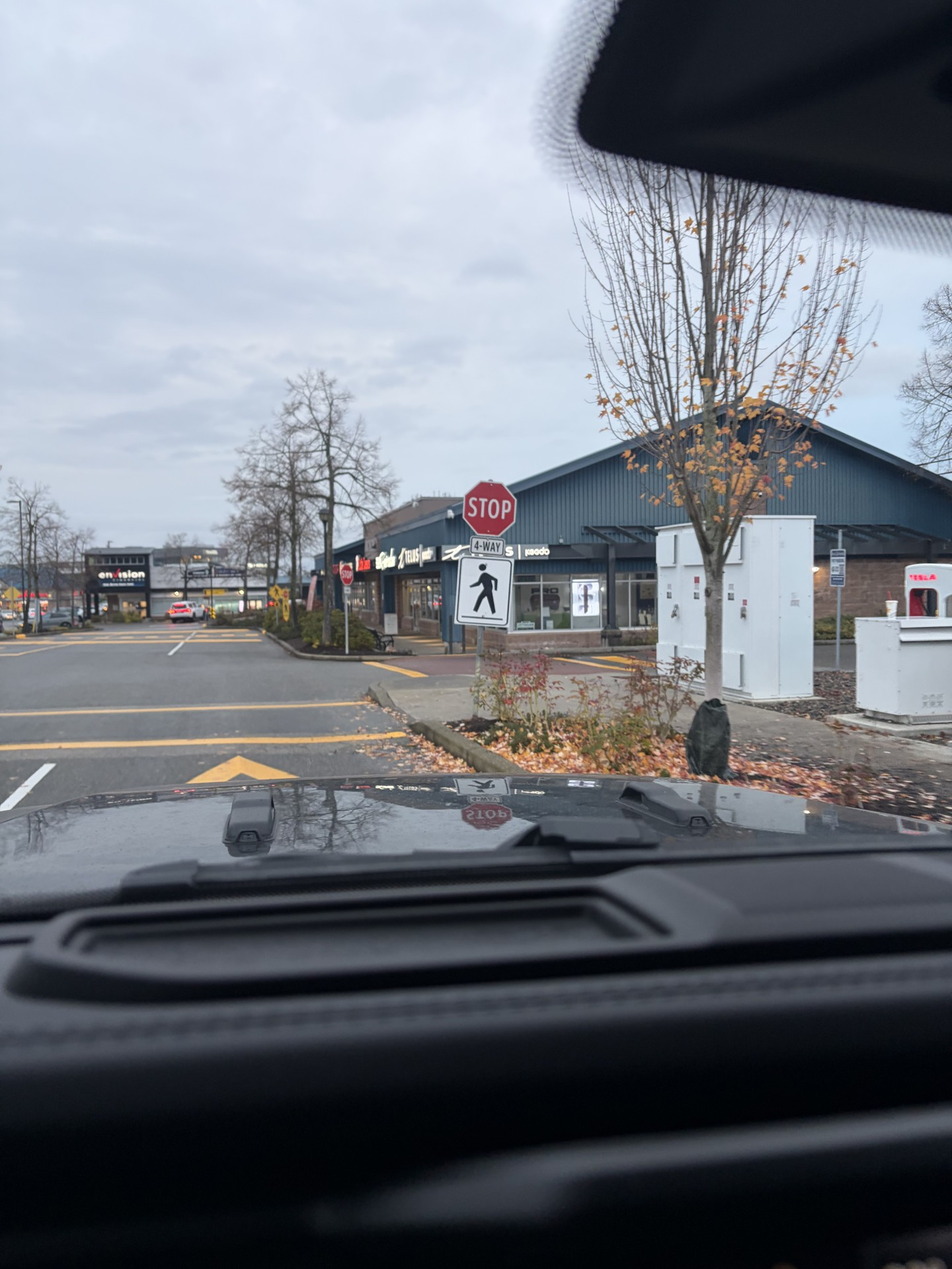pedestrian_crossing: (451, 551, 527, 645)
stop: (448, 457, 526, 547)
